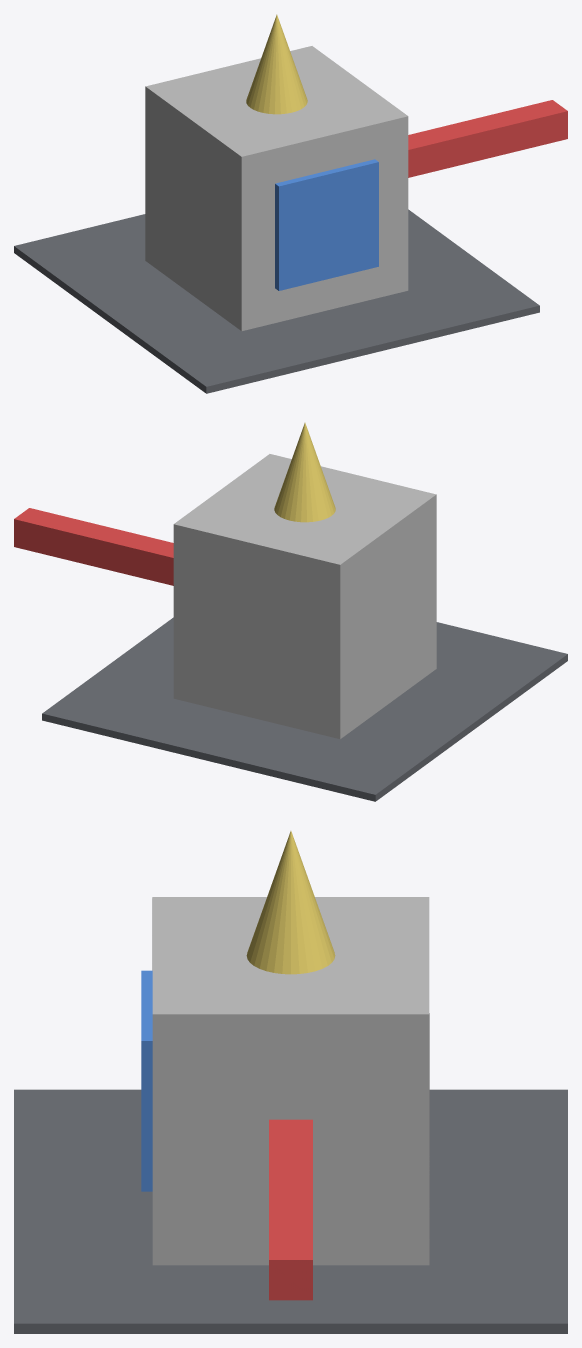
Rendered from tls_env_001_calibration_gnomon_v001.fbx.
The picture shows the model from 3 angles, top to bottom: view 1: azimuth 30°, elevation 25°; view 2: azimuth 150°, elevation 25°; view 3: azimuth 270°, elevation 25°; orthographic projection. The views are drawn at different scales.
Parts seen in each view (by area): view 1: tls_env_001_calibration_gnomon; view 2: tls_env_001_calibration_gnomon; view 3: tls_env_001_calibration_gnomon.
Part boxes in pixels (x1,y1,x2,y2): tls_env_001_calibration_gnomon: (14,14,567,393); tls_env_001_calibration_gnomon: (14,422,567,801); tls_env_001_calibration_gnomon: (14,831,567,1333).
Size of the model in its own units: 1.35 by 1 by 0.77.
